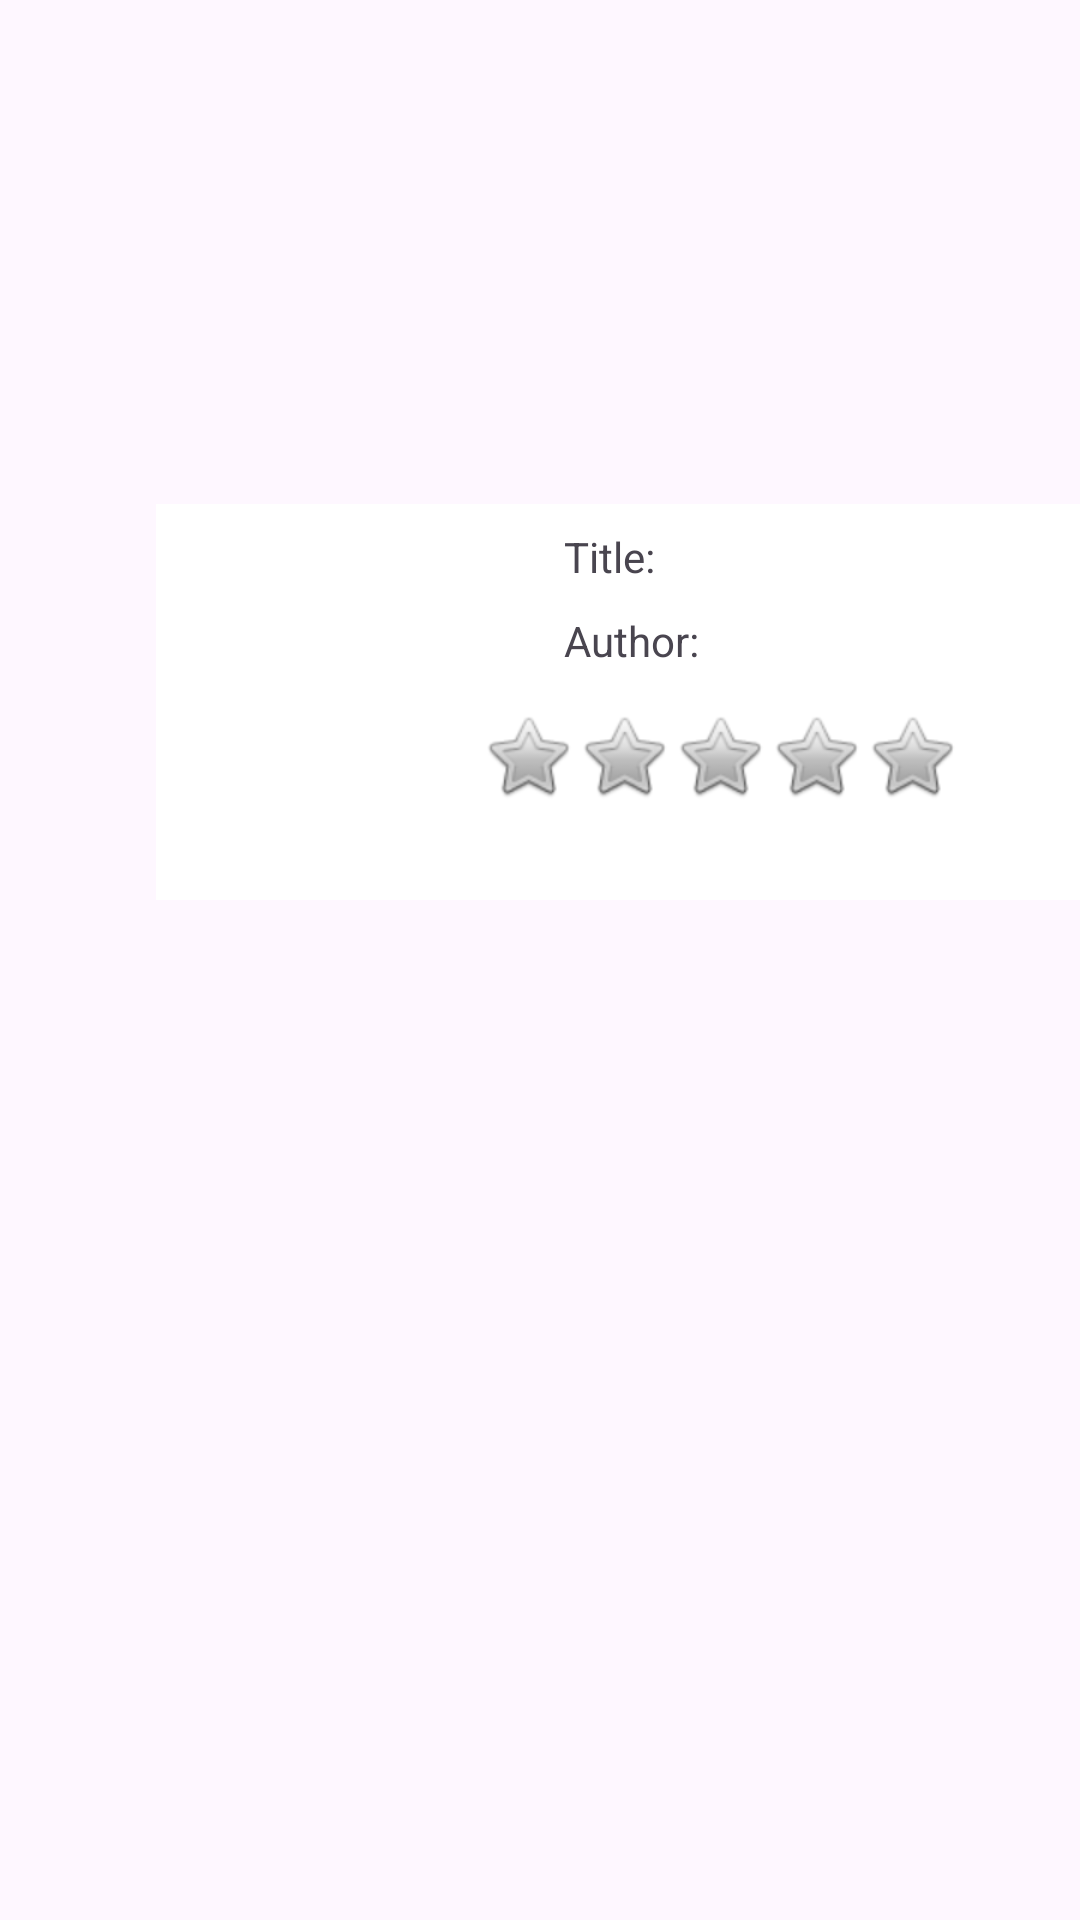

Screen size 1080px×1920px. Icon name, then its center in pixels as [x,y]:
star: [529,757], [625,757], [721,757], [817,757], [913,757]
